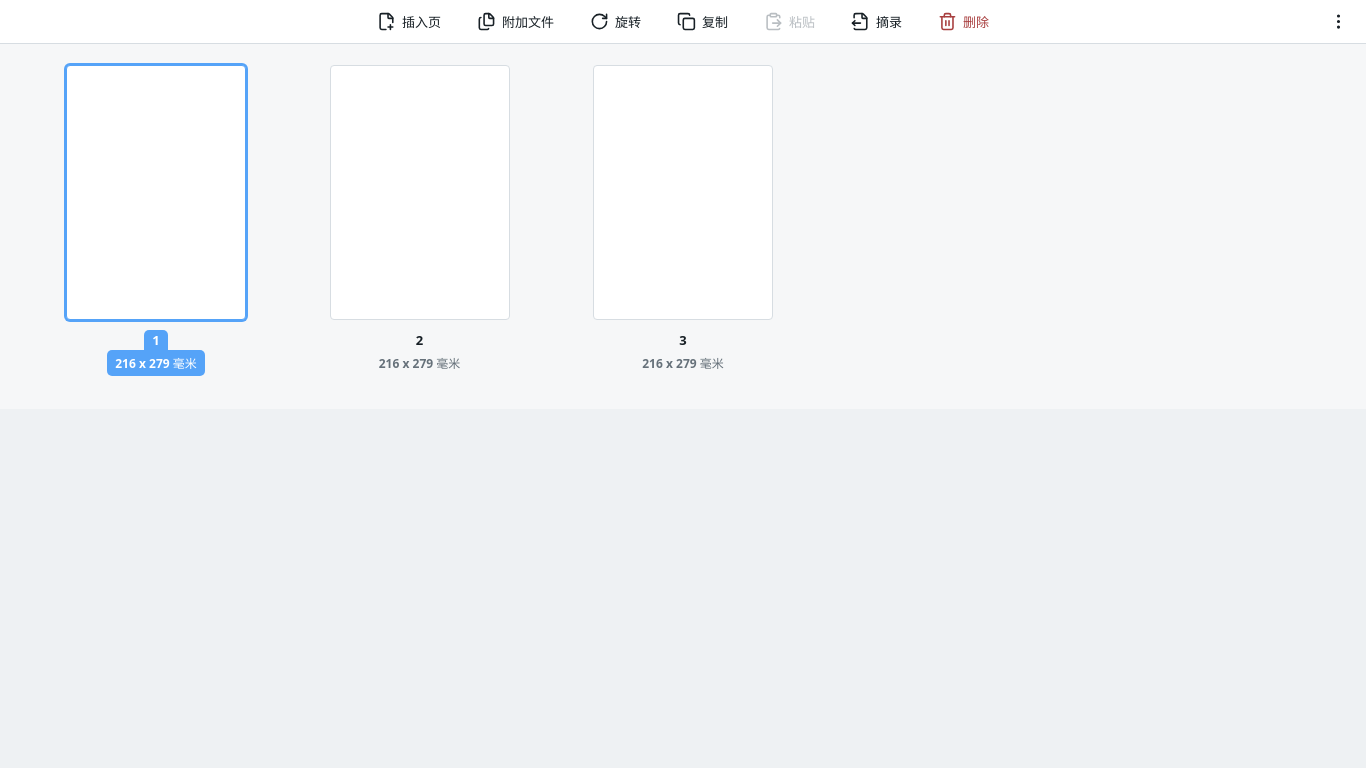
Test: PageOrganizerWorkspace ISS-NEW-A 阶段 2：插入 / 合并 / 提取 UI 入口 › 点提取页码范围按钮弹出对话框，预填 1-1 范围与默认输出名
This screenshot has width=1366, height=768.
Click the heading named "更多页面工具": (1338, 22) x1=1328 y1=12 x2=1348 y2=31
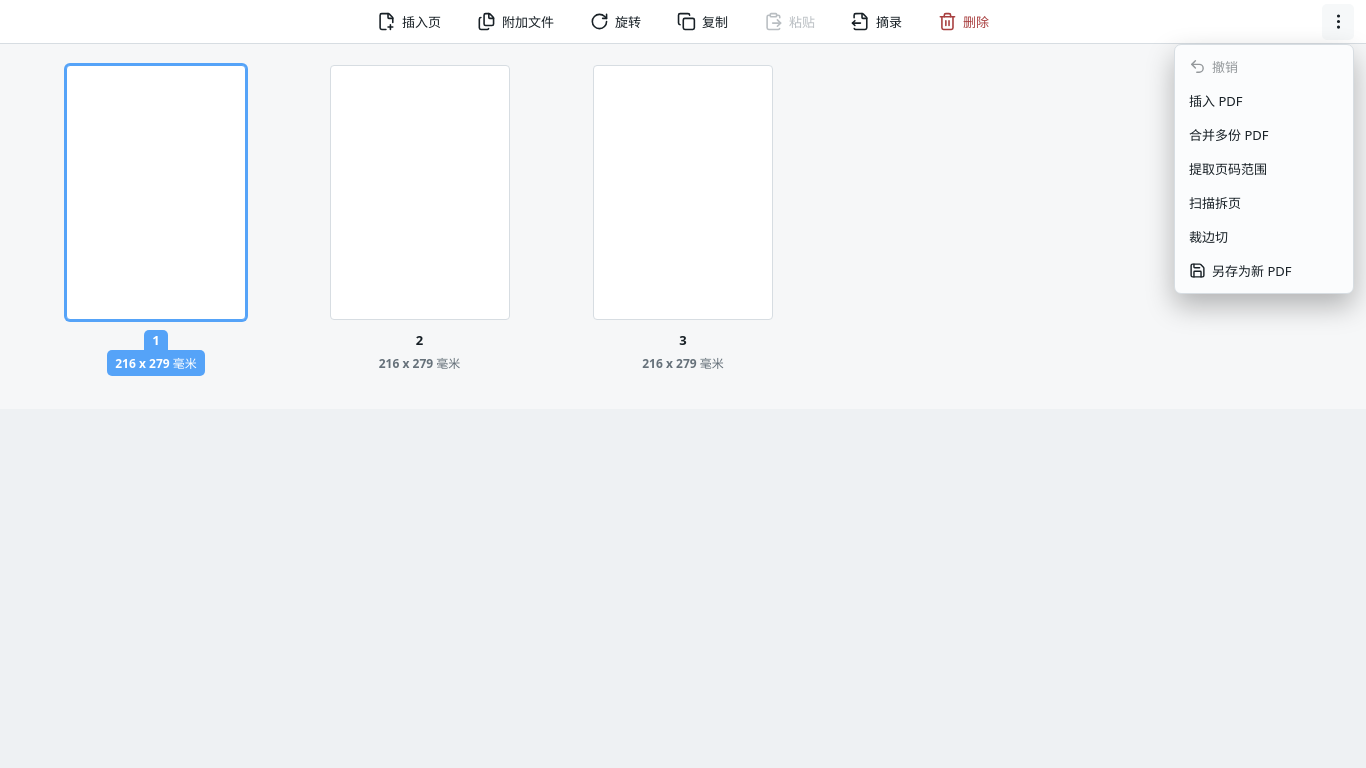
Click the menu item with test id "page-organizer-extract-pages": (1264, 168) x1=1181 y1=152 x2=1347 y2=184
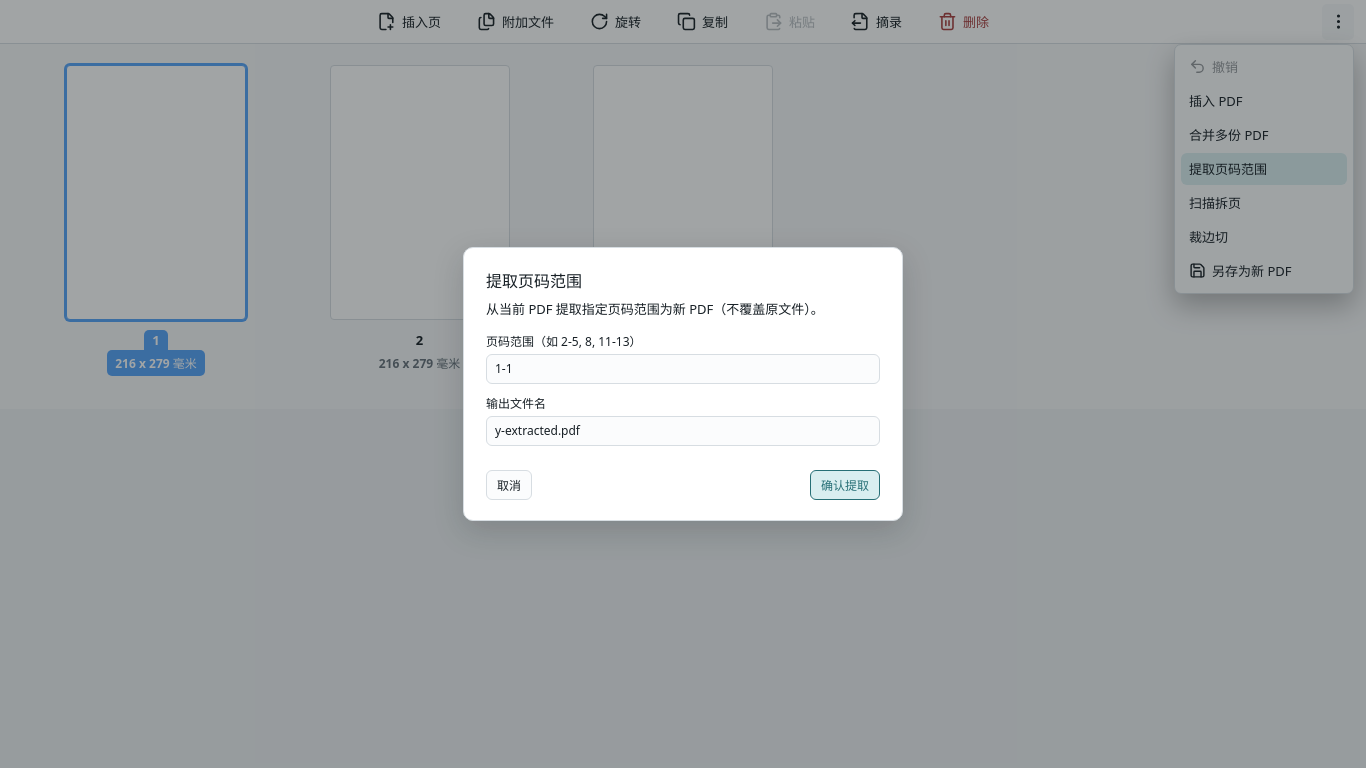
Expected: the dialog "提取页码范围" is shown
Expected: the field with test id "extract-pages-range" holds "1-1", x1=486 y1=354 x2=880 y2=384
Expected: the field with test id "extract-pages-output" holds "y-extracted.pdf", x1=486 y1=416 x2=880 y2=446
